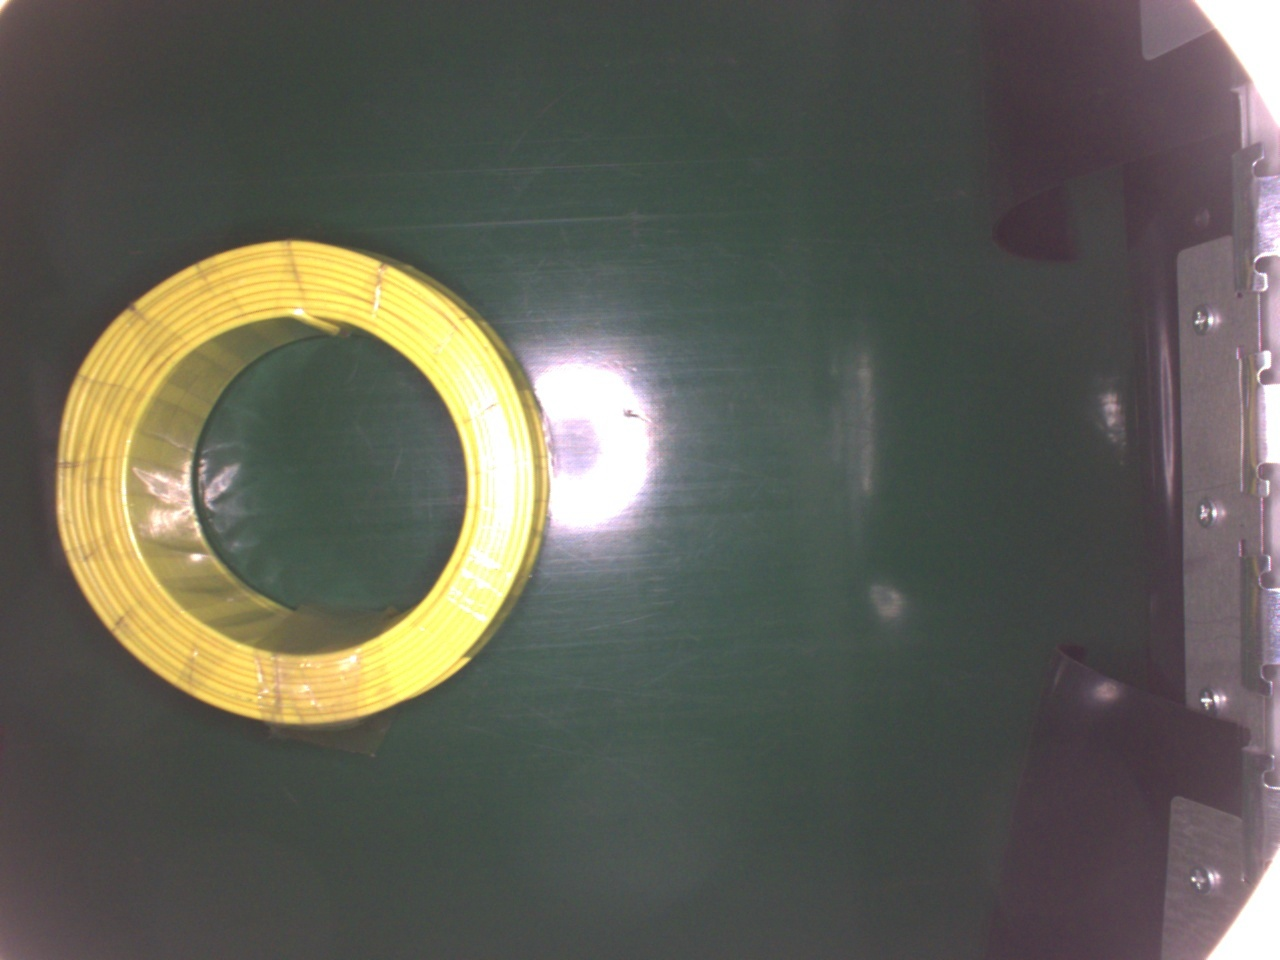yellow: (53, 233, 546, 718)
